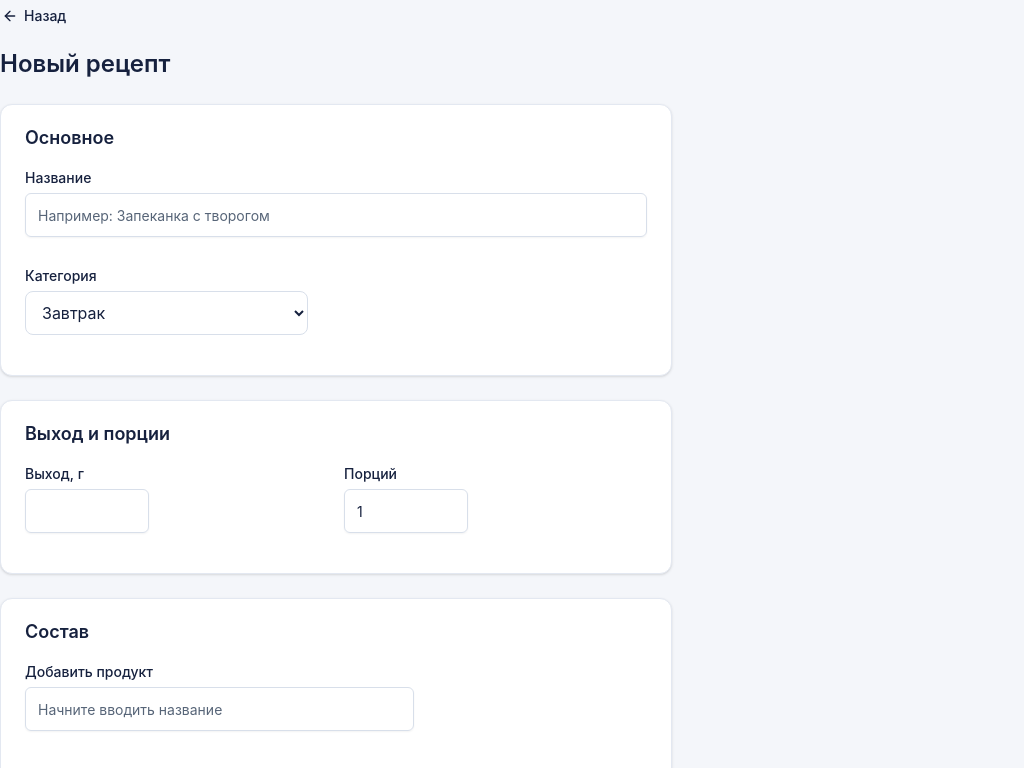
показатели в форме рецепта › отказ расчёта не мешает сохранить рецепт
Type "масло" into the dropdown labelled "Добавить продукт" at (219, 709), box [25,687,414,731]
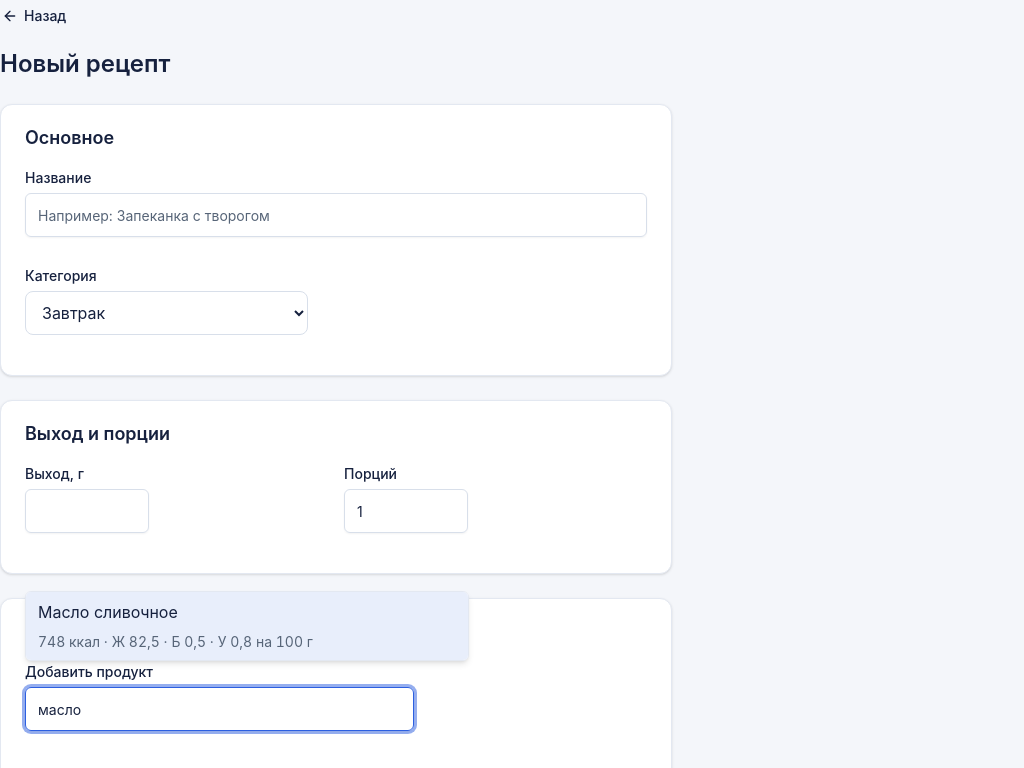
Click the option "Масло сливочное 748 ккал · Ж 82,5 · Б 0,5 · У 0,8 на 100 г" at (108, 612), box [26,592,468,660]
(page scrolled)
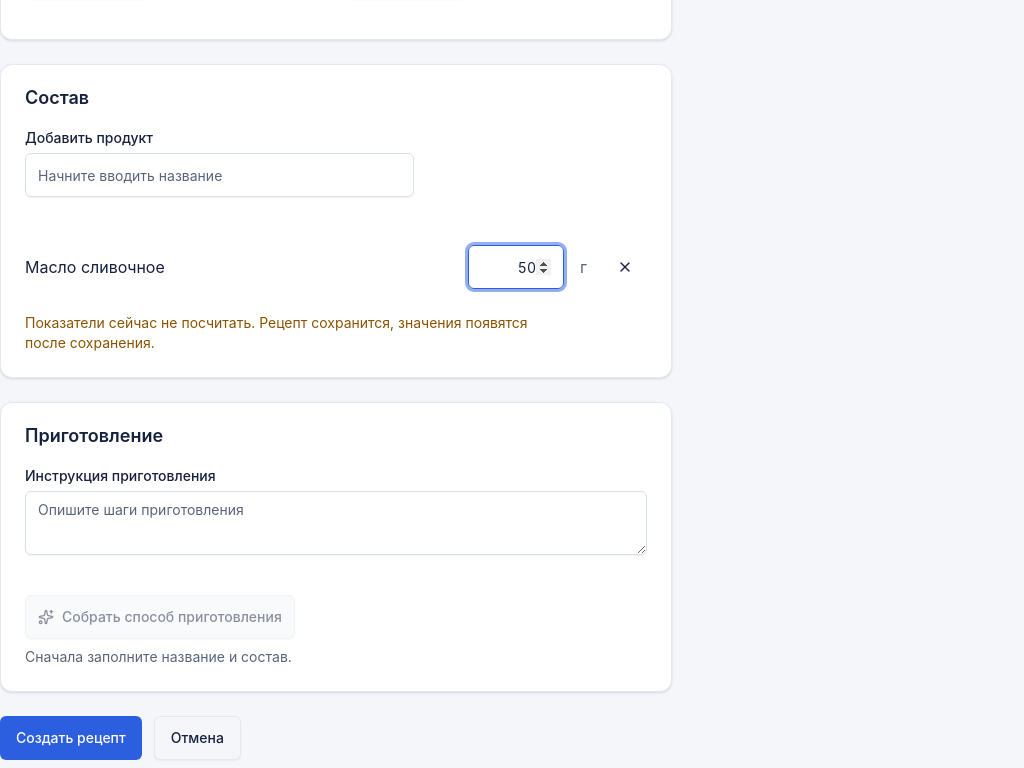
Expected: the button "Создать рецепт" is enabled, [0,716,142,760]
Expected: the text "Показатели сейчас не посчитать" is shown, [25,314,528,351]
